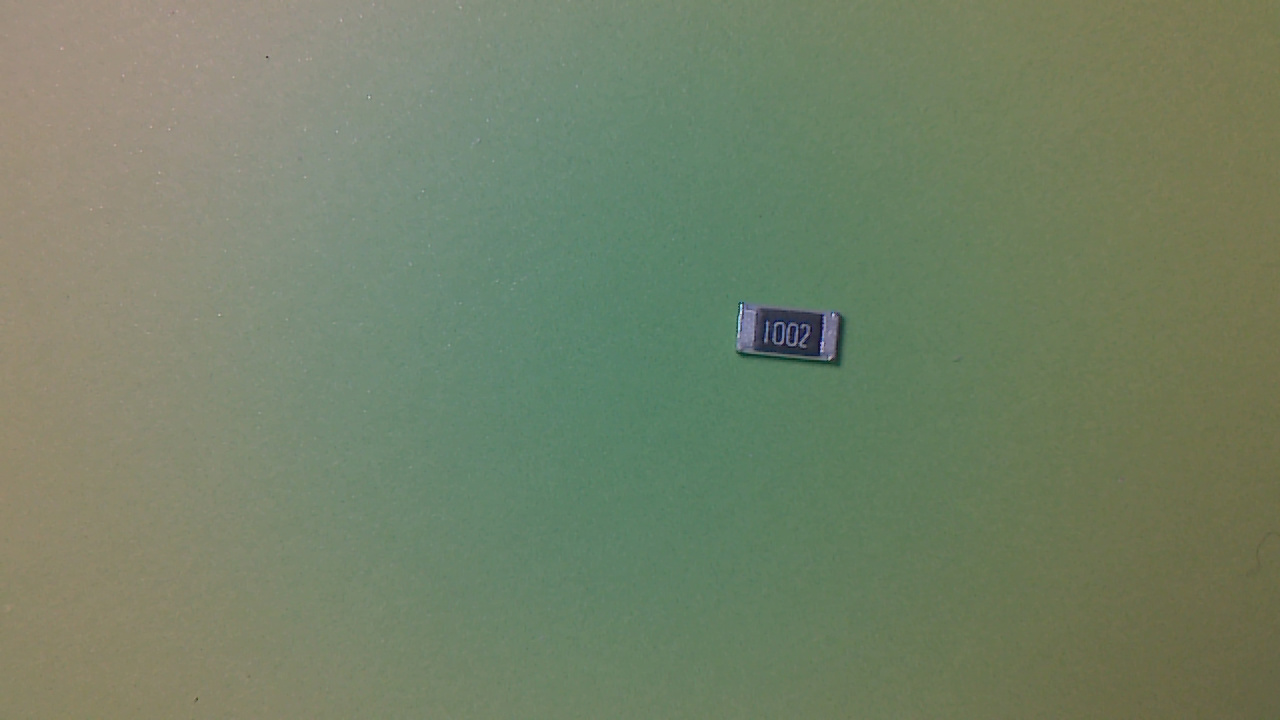Resistor: (729, 305, 852, 377)
